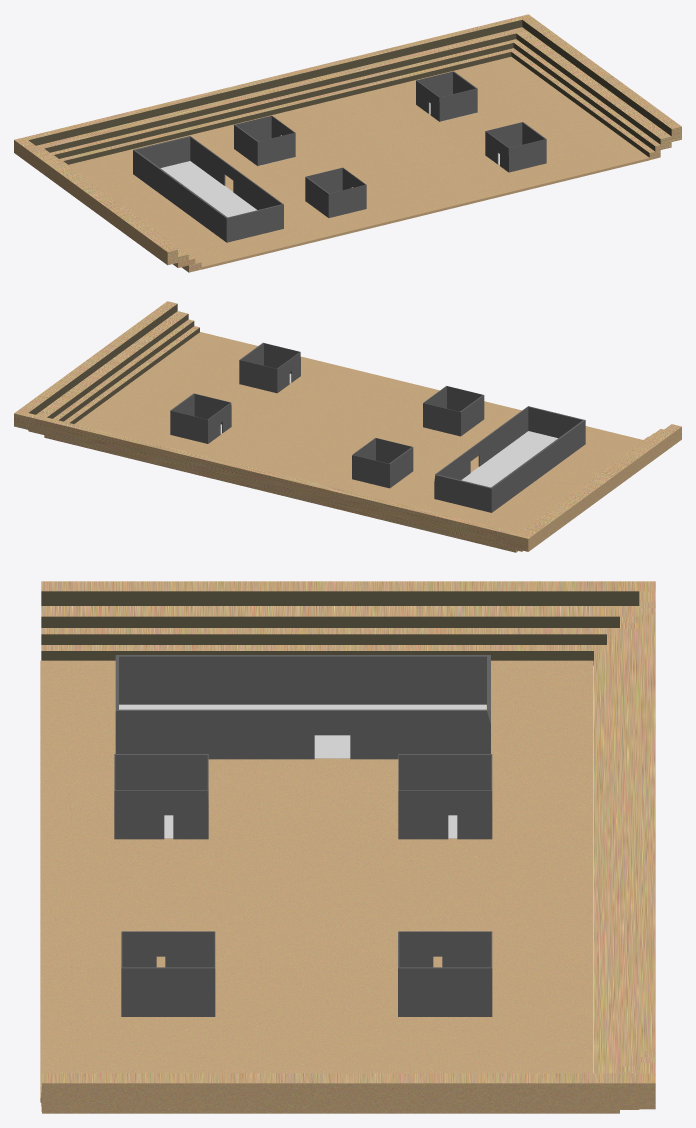
File: Desierto 1.fbx
3 views of the same model, one above another, from view 1: azimuth 30°, elevation 25°; view 2: azimuth 150°, elevation 25°; view 3: azimuth 270°, elevation 25° (orthographic). The views are drawn at different scales.
Visible parts, largest first — view 1: Cube, Cube.011, Cube.001, Cube.002, Cube.003, Cube.004, Cube.005, Cube.010; view 2: Cube, Cube.011, Cube.001, Cube.002, Cube.003, Cube.005, Cube.004, Cube.010; view 3: Cube, Cube.011, Cube.001, Cube.004, Cube.005, Cube.002, Cube.003, Cube.010.
Boxes of the visible parts, x1,y1,x2,y2 form: Cube: (68, 56, 649, 269); Cube.011: (14, 14, 681, 272); Cube.001: (133, 136, 283, 242); Cube.002: (305, 167, 366, 217); Cube.003: (234, 115, 295, 165); Cube.004: (416, 71, 477, 121); Cube.005: (485, 122, 546, 172); Cube.010: (160, 161, 257, 217); Cube: (74, 332, 642, 532); Cube.011: (14, 301, 681, 552); Cube.001: (434, 406, 585, 512); Cube.002: (423, 386, 484, 436); Cube.003: (352, 438, 413, 488); Cube.005: (239, 342, 300, 393); Cube.004: (170, 393, 231, 443); Cube.010: (461, 431, 557, 487); Cube: (40, 660, 593, 1102); Cube.011: (41, 581, 655, 1113); Cube.001: (115, 655, 490, 759); Cube.004: (398, 931, 492, 1016); Cube.005: (121, 931, 215, 1016); Cube.002: (114, 754, 208, 839); Cube.003: (398, 754, 492, 839); Cube.010: (119, 704, 486, 758).
Bounding box in the file's own units: 2289 × 114 × 1185.
Materials: 4 (1 with a texture image).
